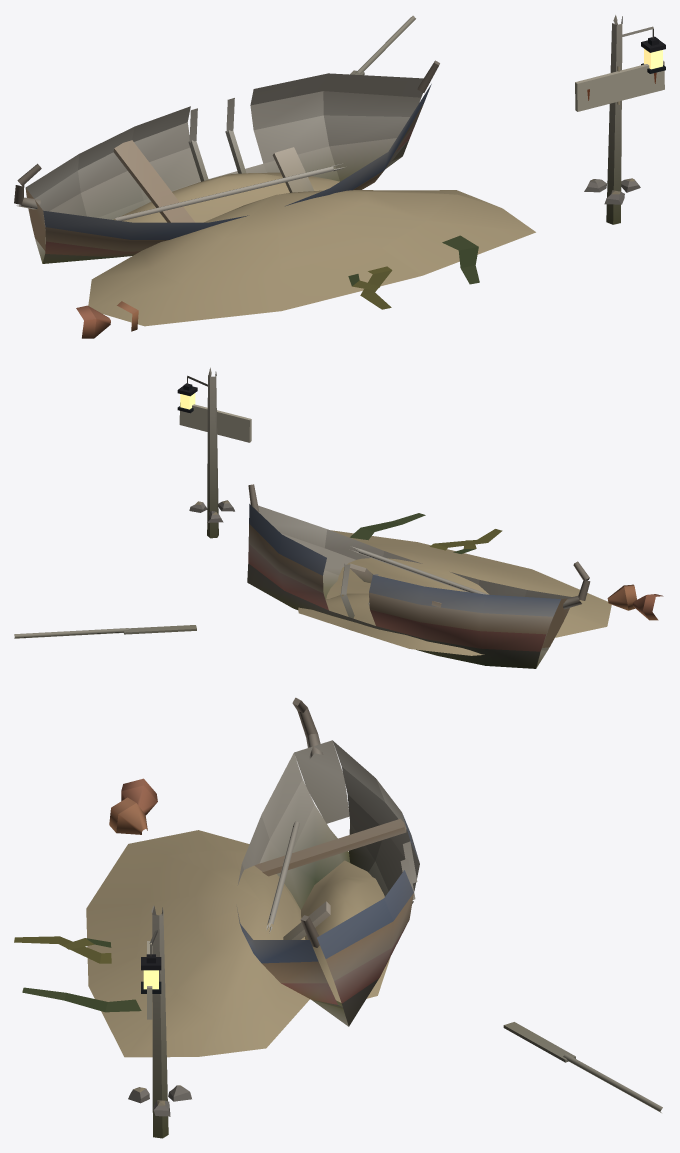
The model's file is wreck_skiff.glb.
The picture shows the model from 3 angles, top to bottom: view 1: azimuth 30°, elevation 25°; view 2: azimuth 150°, elevation 25°; view 3: azimuth 270°, elevation 25°; orthographic projection. The views are drawn at different scales.
Parts seen in each view (by area): view 1: hull, epitaph; view 2: hull, epitaph; view 3: hull, epitaph.
Boxes of the visible parts, bbox=[...] form: hull: bbox=[14, 15, 535, 338]; epitaph: bbox=[575, 15, 665, 224]; hull: bbox=[14, 484, 663, 668]; epitaph: bbox=[177, 367, 251, 538]; hull: bbox=[14, 697, 662, 1112]; epitaph: bbox=[128, 905, 191, 1138].
Bounding box in the file's own units: 7.49 × 2.5 × 6.35.
